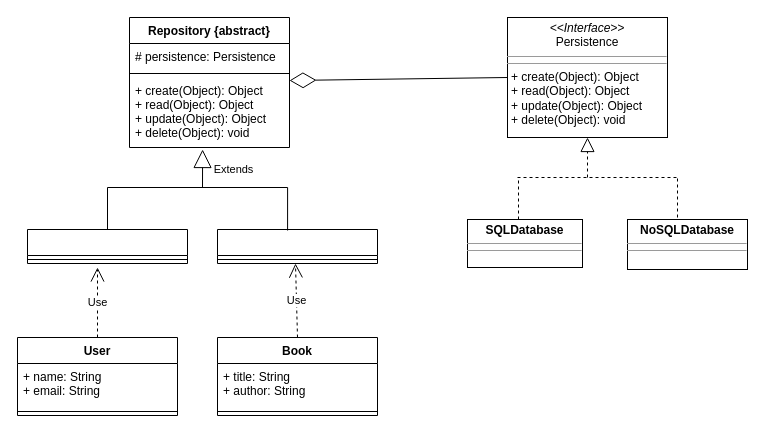
This 765x433 diagram has some shape labels left out. The centre of each missing label's shape, as x and y in pixels:
BookRepository: (x=297, y=246)
UserRepository: (x=107, y=246)
